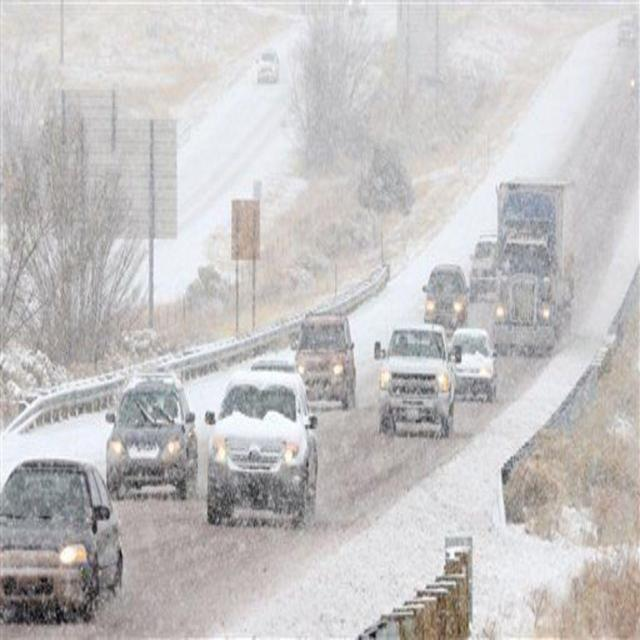Car: (0, 248, 208, 368), (0, 452, 122, 628), (203, 368, 319, 528), (104, 371, 199, 501), (373, 324, 457, 436), (290, 310, 356, 415), (448, 326, 502, 400), (467, 231, 499, 298), (251, 47, 282, 83)
Truck: (490, 173, 580, 352)
Van: (422, 263, 470, 328)
